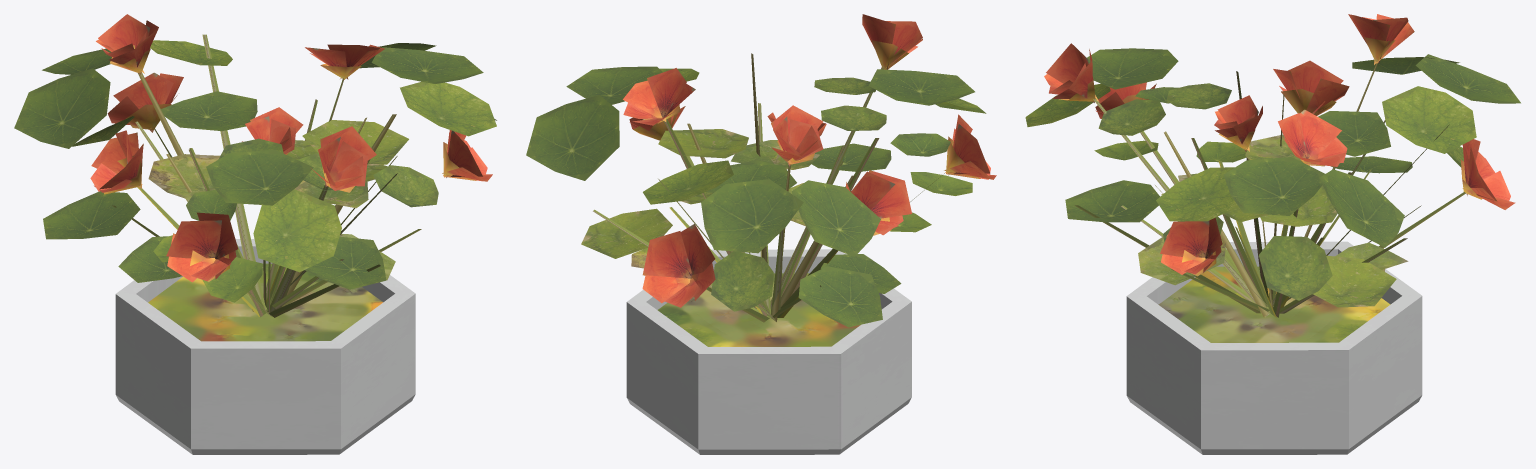
File: Flowers.fbx
3 renders of one model, left to right at view 1: azimuth 30°, elevation 25°; view 2: azimuth 150°, elevation 25°; view 3: azimuth 270°, elevation 25°, orthographic. The views are drawn at different scales.
Parts seen in each view (by area): view 1: propFlowers; view 2: propFlowers; view 3: propFlowers.
Boxes of the visible parts, x1,y1,x2,y2 form: propFlowers: [14, 14, 496, 454]; propFlowers: [526, 14, 996, 454]; propFlowers: [1025, 14, 1520, 454].
Size of the model in its own units: 31.86 by 27.18 by 34.13.
2 materials, 2 textured.
